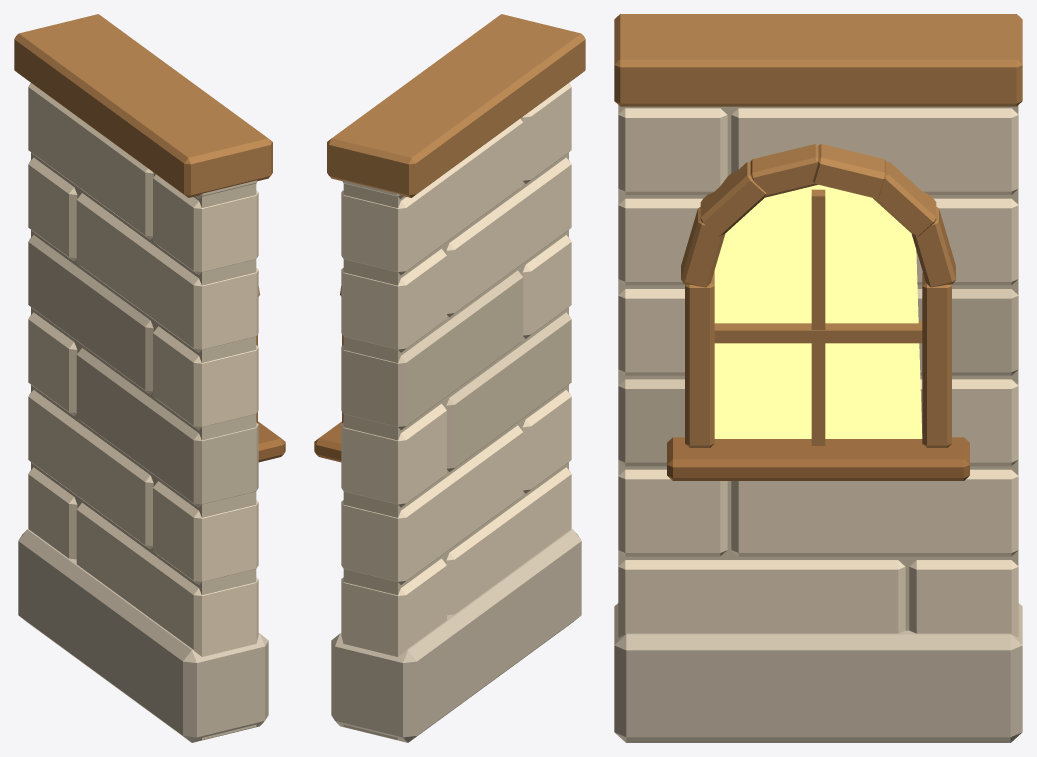
File: mod_wall_curved_r2.20_n14_window.glb
The picture shows the model from 3 angles, left to right: view 1: azimuth 30°, elevation 25°; view 2: azimuth 150°, elevation 25°; view 3: azimuth 270°, elevation 25°; orthographic projection. The views are drawn at different scales.
Parts seen in each view (by area): view 1: mod_wall_curved_r2.20_n14_window; view 2: mod_wall_curved_r2.20_n14_window; view 3: mod_wall_curved_r2.20_n14_window.
Boxes of the visible parts, x1=… form: mod_wall_curved_r2.20_n14_window: x1=14, y1=14, x2=285, y2=742; mod_wall_curved_r2.20_n14_window: x1=314, y1=14, x2=585, y2=742; mod_wall_curved_r2.20_n14_window: x1=614, y1=14, x2=1022, y2=742.
Bounding box in the file's own units: 0.42 × 1.9 × 1.02.
